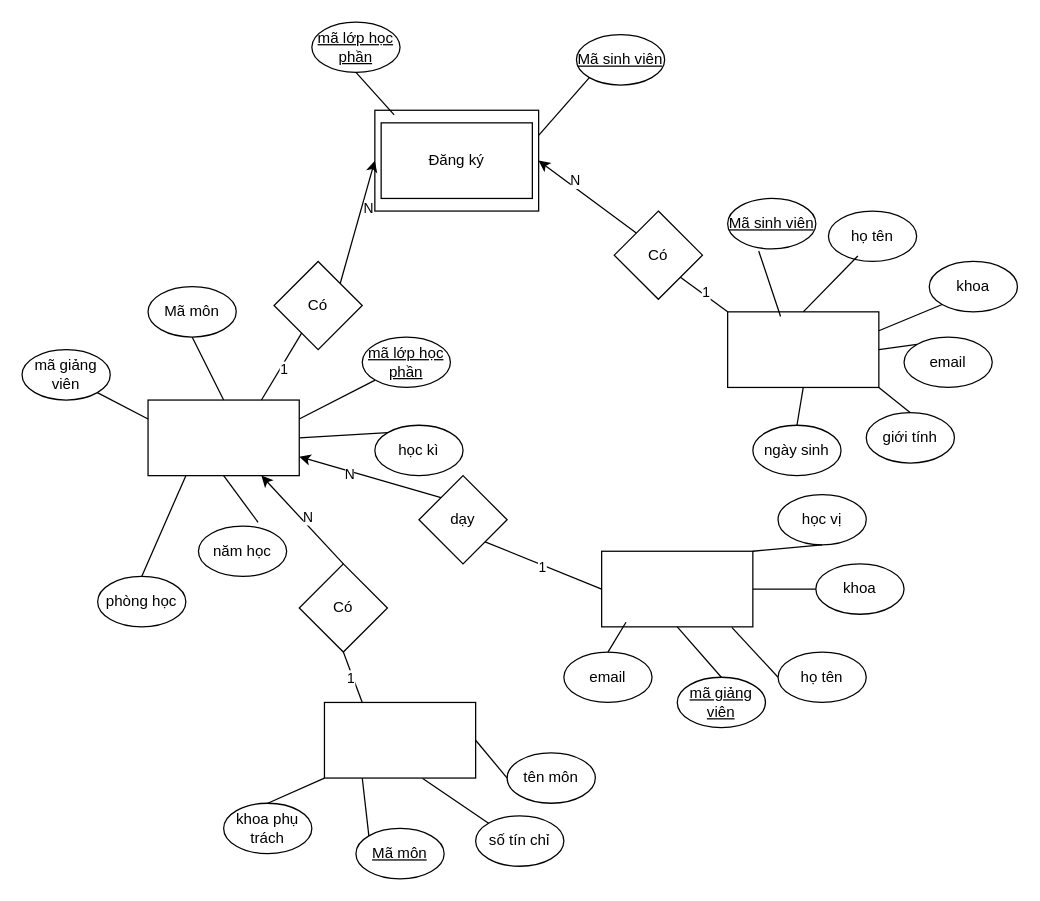
Some shapes in this 1040 by 901 pixel diagram are drawn without their labels. The shapes that lost their labels are listed below. From the top down, each one's box as (x1, y1, x2, y2) in pixels, then its label:
(726, 311, 879, 387): Sinh viên
(147, 399, 299, 476): Lớp học phần
(600, 550, 753, 627): Giảng viên
(323, 701, 476, 778): Môn học
